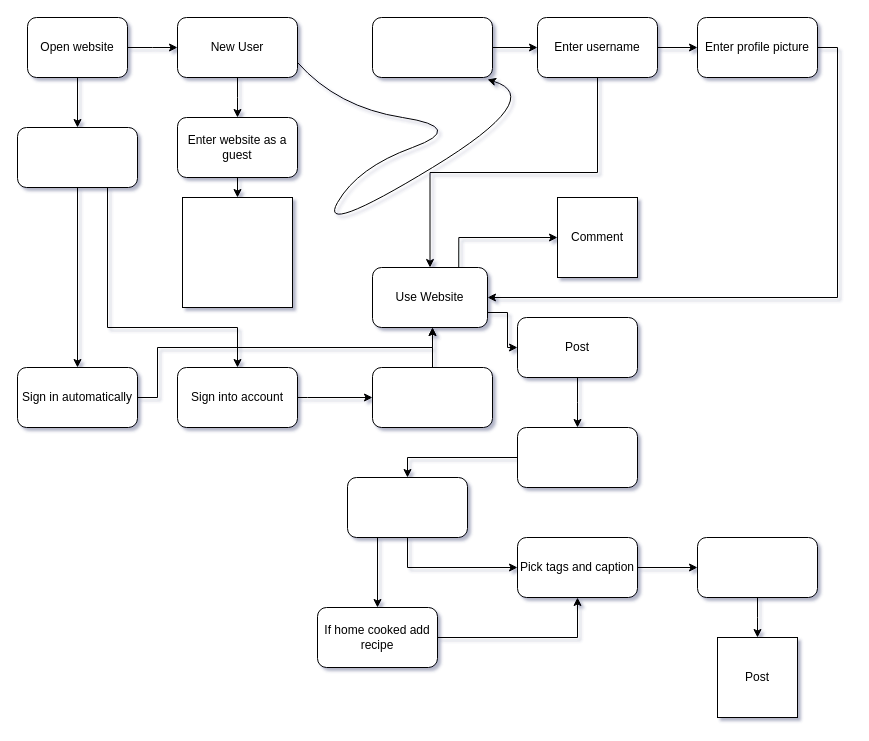
Some shapes in this 869 by 741 pixel diagram are drawn without their labels. Each missing label, with the centre of its shape:
"Enter email and password" goes at (x=432, y=397).
"Give meal a rating of 1-5 stars" goes at (x=757, y=567).
"Old User" goes at (x=77, y=157).
"Pick image" goes at (x=577, y=457).
"Pick restaurant or home cooked meal" goes at (x=407, y=507).
"Sign up with email and password" goes at (x=432, y=47).
"Use website without being able to like,rate,comment, follow or post" goes at (x=237, y=252).
